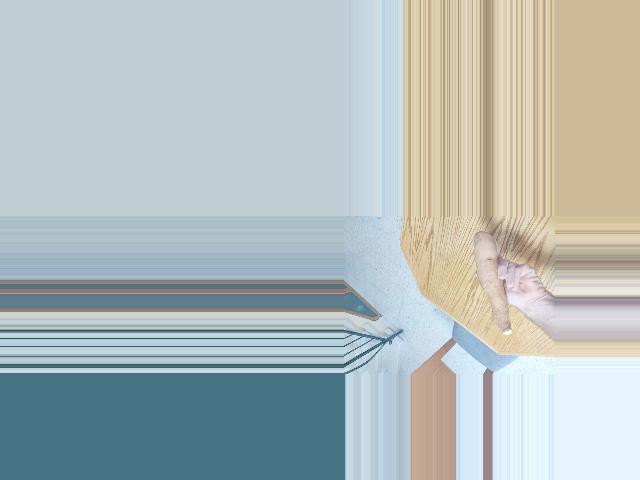sweet_potato: (470, 234, 516, 336)
